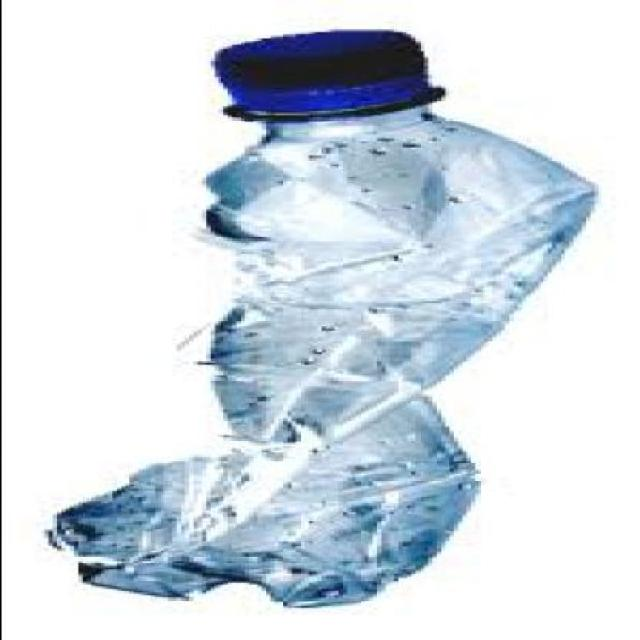PLASTIC: (42, 28, 588, 606), (205, 26, 444, 122)
